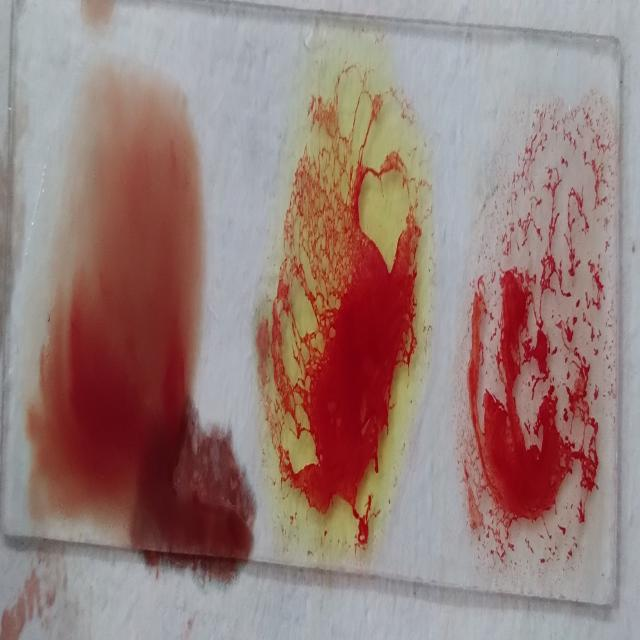B: (272, 36, 428, 557)
D: (462, 105, 614, 604)
